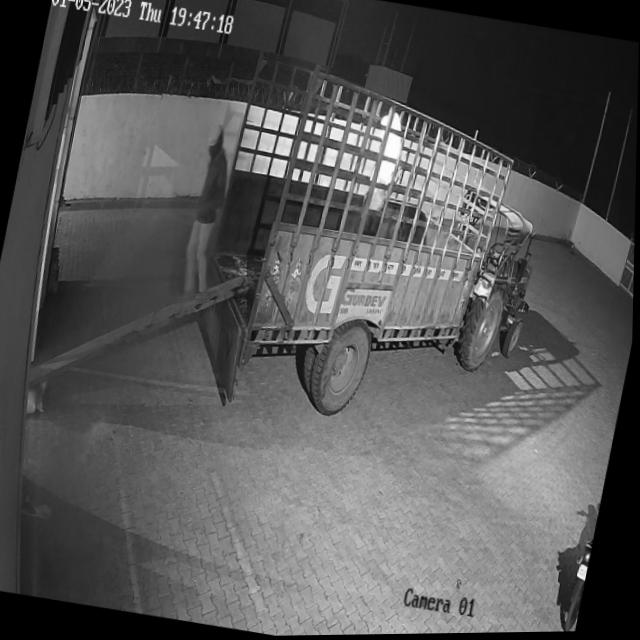sack: (367, 107, 411, 188)
